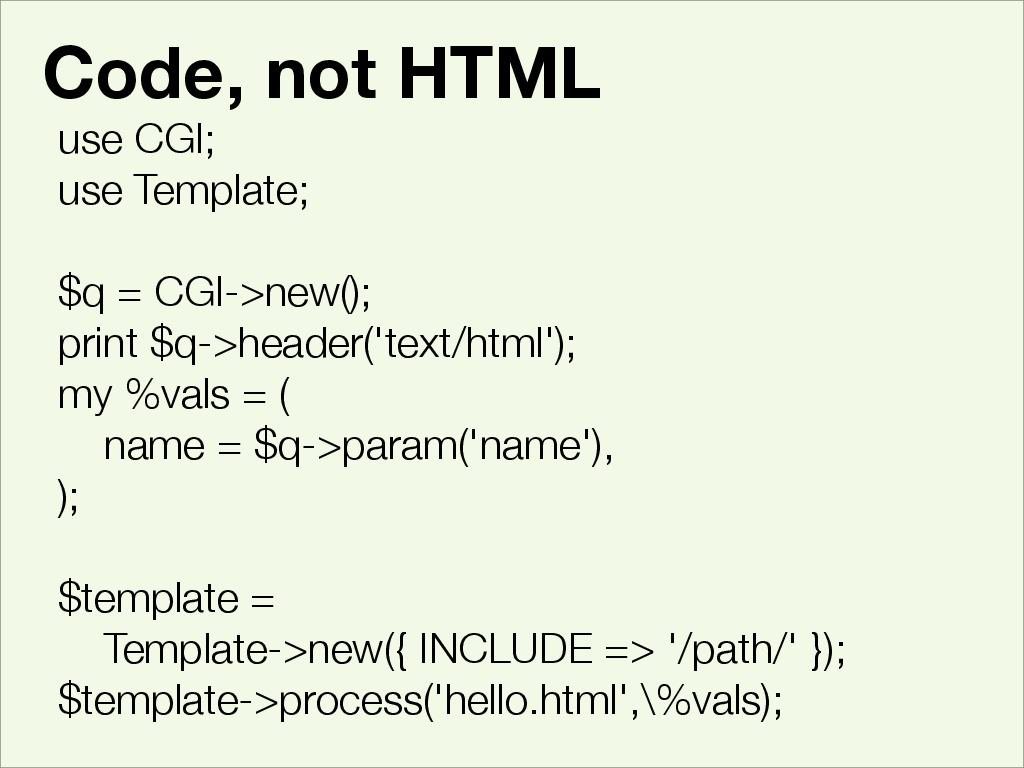paragraph: (43, 116, 908, 757)
title: (33, 12, 622, 114)
